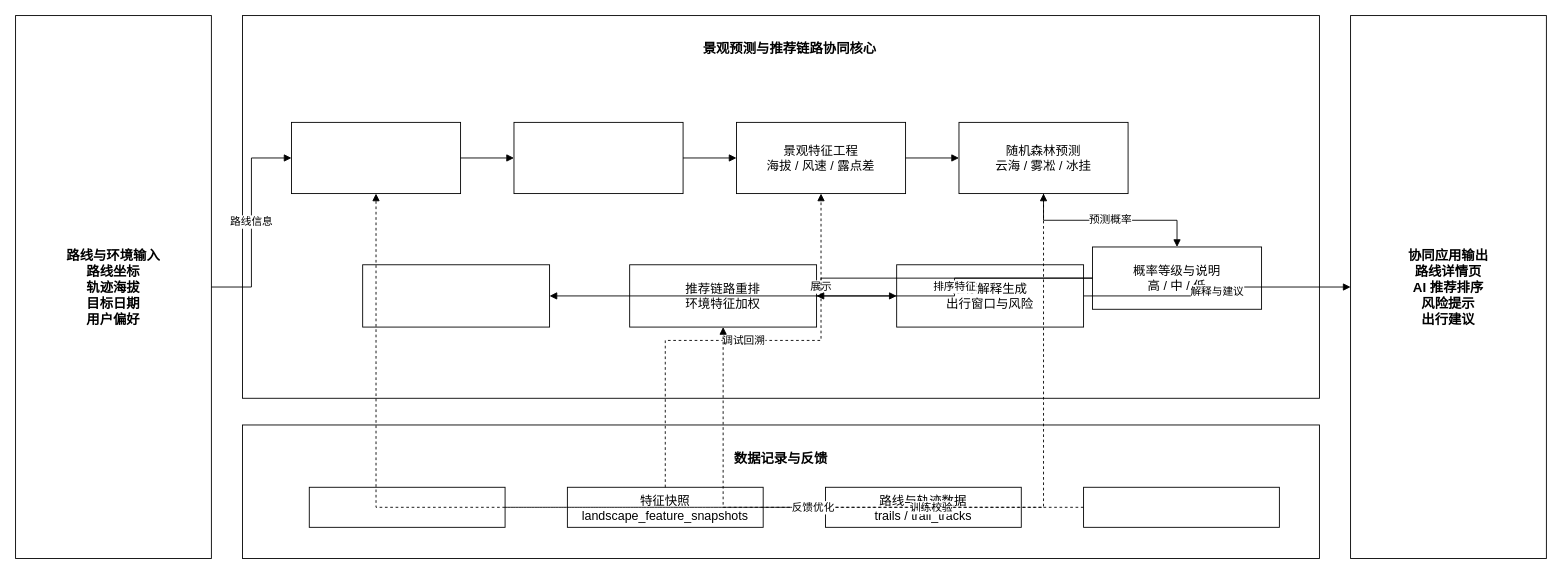
This 1562x574 diagram has some shape labels left out. Each missing label, with the centre of its shape:
"人工观测标签 landscape_observation_labels" goes at point 406,506.
"天气与天文数据 温度 / 湿度 / 云量" goes at point 598,157.
"推荐反馈记录 点击 / 收藏 / 评论" goes at point 1181,506.
"景观上下文构造 路线 / 轨迹 / 时间" goes at point 376,157.
"详情页环境展示 天气与景观卡片" goes at point 456,295.
